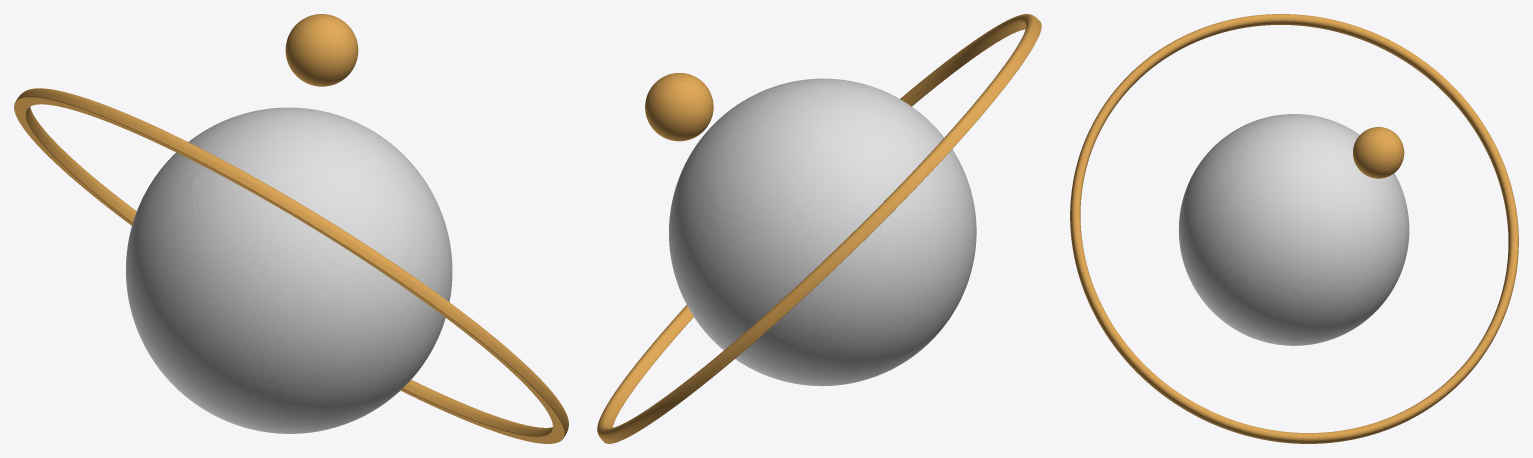
File: Planet.glb
The picture shows the model from 3 angles, left to right: view 1: azimuth 30°, elevation 25°; view 2: azimuth 150°, elevation 25°; view 3: azimuth 270°, elevation 25°; orthographic projection. The views are drawn at different scales.
Parts seen in each view (by area): view 1: Sphere, Ring, Sphere2; view 2: Sphere, Ring, Sphere2; view 3: Sphere, Ring, Sphere2.
Part boxes in pixels (x1,y1,x2,y2): Sphere: (126,107,452,433); Ring: (14,88,568,443); Sphere2: (285,14,358,86); Sphere: (669,78,976,386); Ring: (597,14,1041,443); Sphere2: (645,73,713,141); Sphere: (1178,114,1409,345); Ring: (1070,14,1518,443); Sphere2: (1353,127,1404,178).
Bounding box in the file's own units: 2.83 × 2.83 × 3.84.
2 materials, 1 textured.
